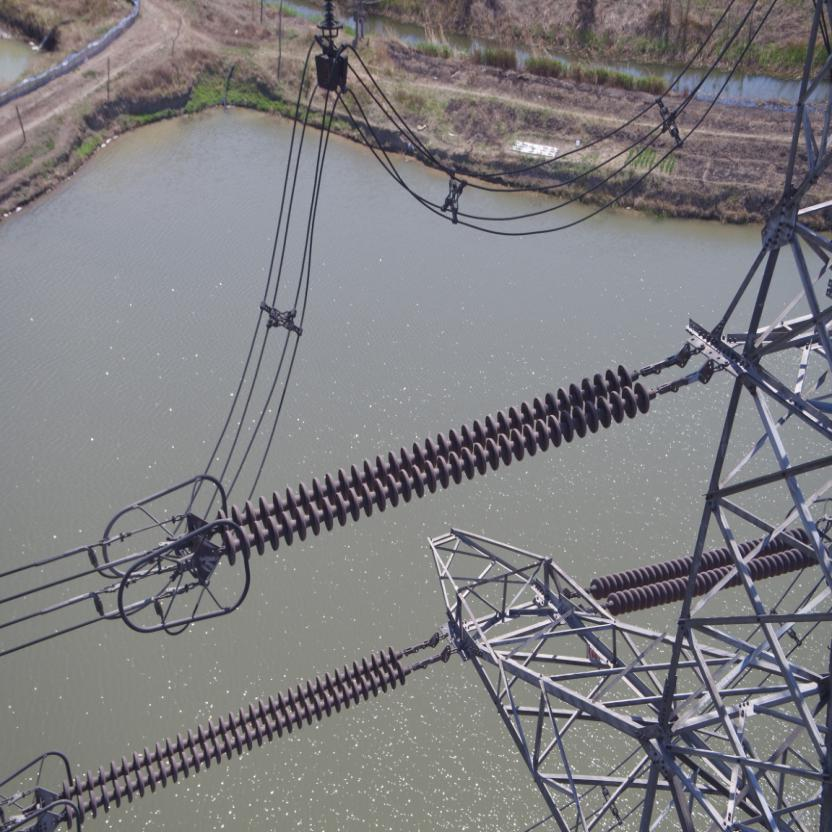insulator: (210, 356, 672, 568), (46, 641, 424, 831)
